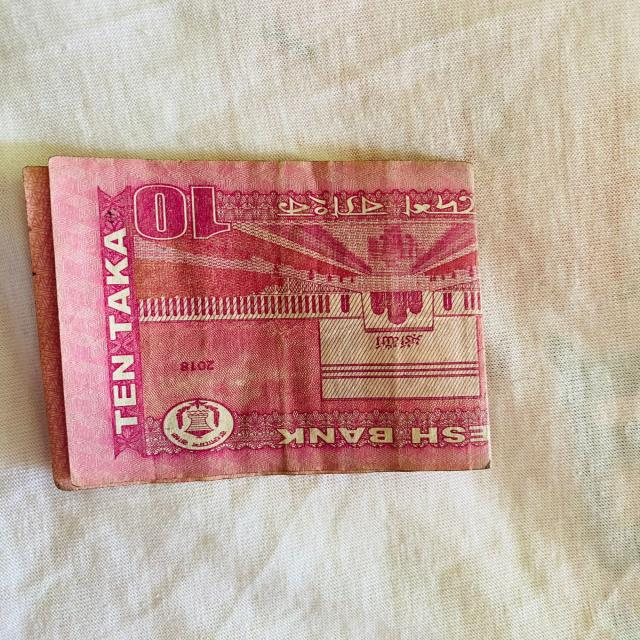Taka: (23, 134, 517, 491)
